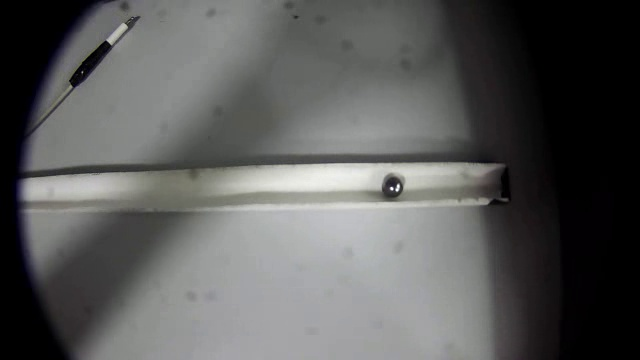gangzhu: (380, 173, 406, 200)
